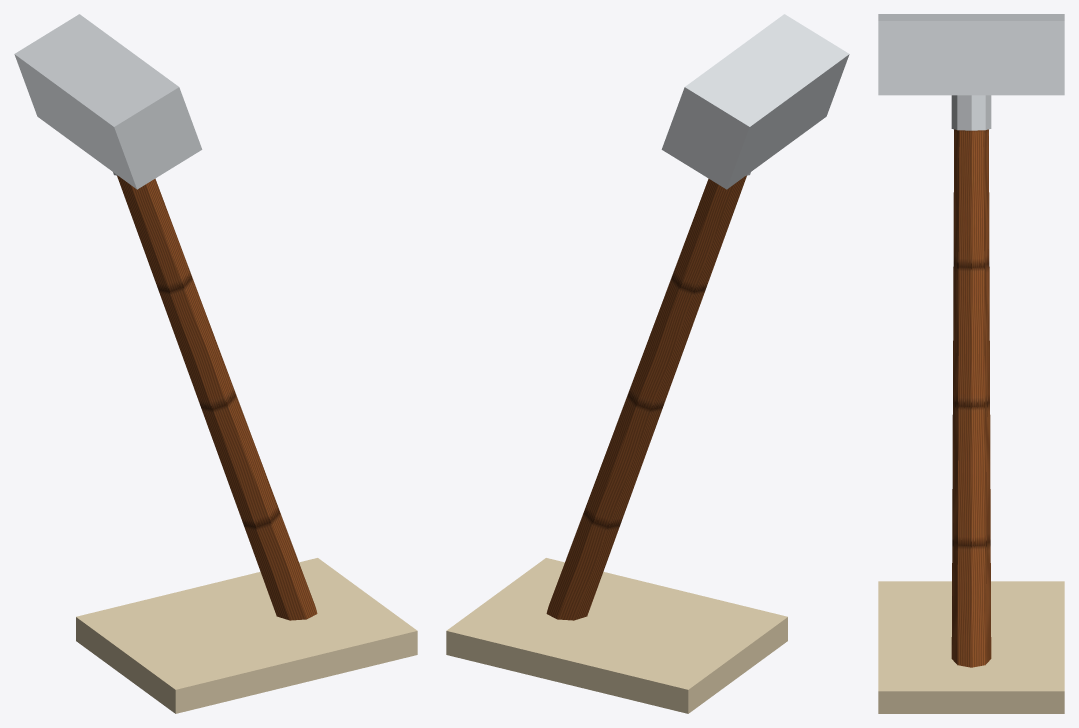
File: travelling-circus-and-big-top-rigging-sledgehammer-5804af76__36265.glb
3 renders of one model, left to right at view 1: azimuth 30°, elevation 25°; view 2: azimuth 150°, elevation 25°; view 3: azimuth 270°, elevation 25°, orthographic. The views are drawn at different scales.
Parts seen in each view (by area): view 1: rigging-sledgehammer-sawdust, rigging-sledgehammer-steel, rigging-sledgehammer-timber; view 2: rigging-sledgehammer-sawdust, rigging-sledgehammer-steel, rigging-sledgehammer-timber; view 3: rigging-sledgehammer-sawdust, rigging-sledgehammer-timber, rigging-sledgehammer-steel.
Boxes of the visible parts, x1,y1,x2,y2 form: rigging-sledgehammer-sawdust: [76, 558, 417, 713]; rigging-sledgehammer-steel: [14, 14, 202, 189]; rigging-sledgehammer-timber: [117, 175, 317, 620]; rigging-sledgehammer-sawdust: [446, 558, 787, 713]; rigging-sledgehammer-steel: [661, 14, 849, 189]; rigging-sledgehammer-timber: [546, 175, 746, 620]; rigging-sledgehammer-sawdust: [878, 581, 1064, 713]; rigging-sledgehammer-timber: [951, 129, 991, 667]; rigging-sledgehammer-steel: [878, 14, 1064, 130].
Size of the model in its own units: 0.5267 by 1.05 by 0.3.
Materials: 3 (1 with a texture image).
